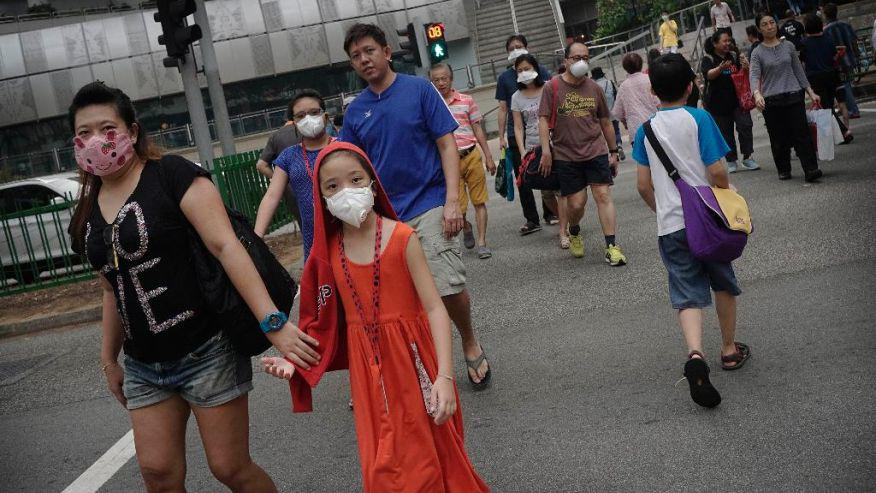NONE: (352, 40, 385, 81), (431, 74, 452, 95), (763, 21, 779, 39), (718, 38, 734, 54)
OK: (324, 165, 376, 227), (73, 119, 132, 172), (294, 104, 326, 136), (510, 42, 530, 67), (517, 65, 538, 86), (570, 55, 590, 77)
